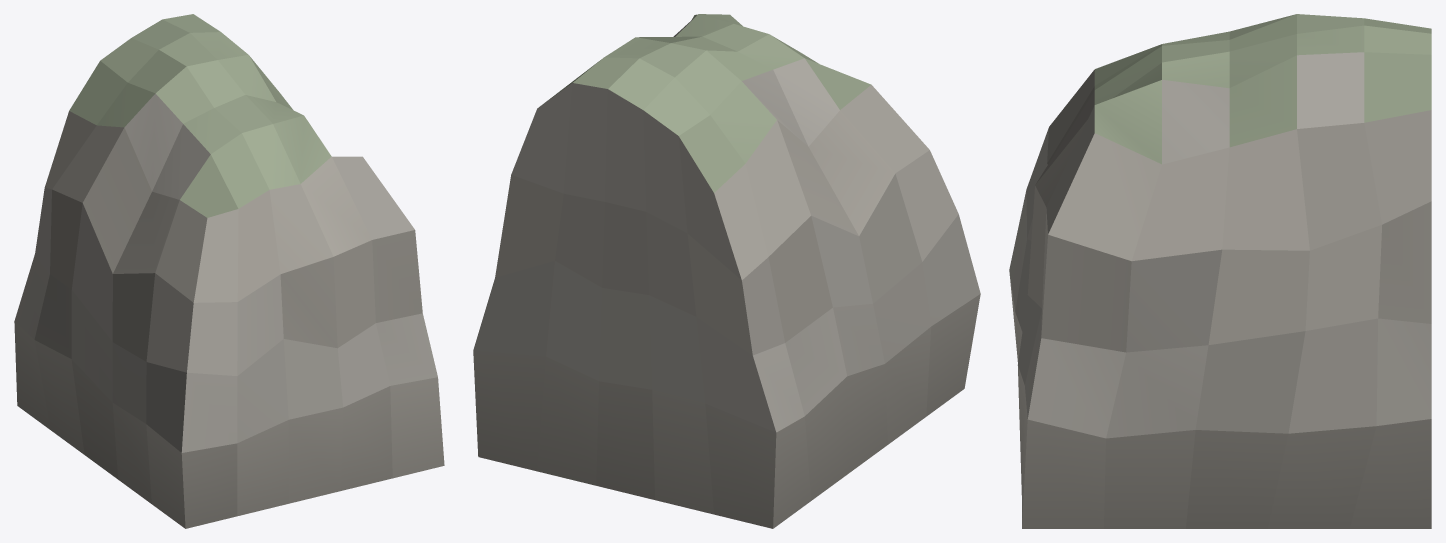
Rendered from roca_punta.glb.
3 renders of one model, left to right at view 1: azimuth 30°, elevation 25°; view 2: azimuth 150°, elevation 25°; view 3: azimuth 270°, elevation 25°, orthographic. The views are drawn at different scales.
Parts seen in each view (by area): view 1: propforge-cuartos-roca_punta; view 2: propforge-cuartos-roca_punta; view 3: propforge-cuartos-roca_punta.
Boxes of the visible parts, <box> form: propforge-cuartos-roca_punta: <box>14,14,444,528</box>; propforge-cuartos-roca_punta: <box>473,14,980,528</box>; propforge-cuartos-roca_punta: <box>1009,14,1431,528</box>.
Bounding box in the file's own units: 0.8561 × 1.06 × 0.9278.
